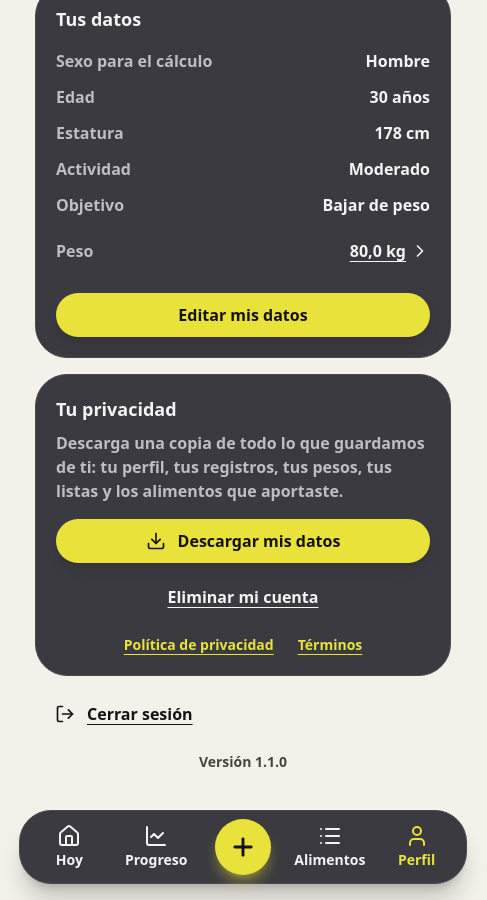
Test: ProfilePage › says so when the export fails
(page scrolled)
Click the button "Descargar mis datos" at (243, 541), box x1=56 y1=519 x2=430 y2=563
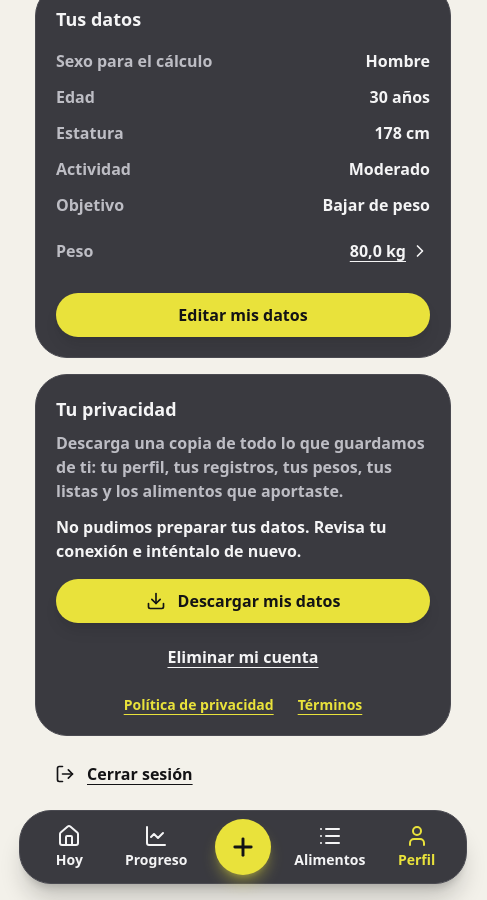
Now the message shows "No pudimos preparar tus datos", box x1=56 y1=516 x2=387 y2=562
